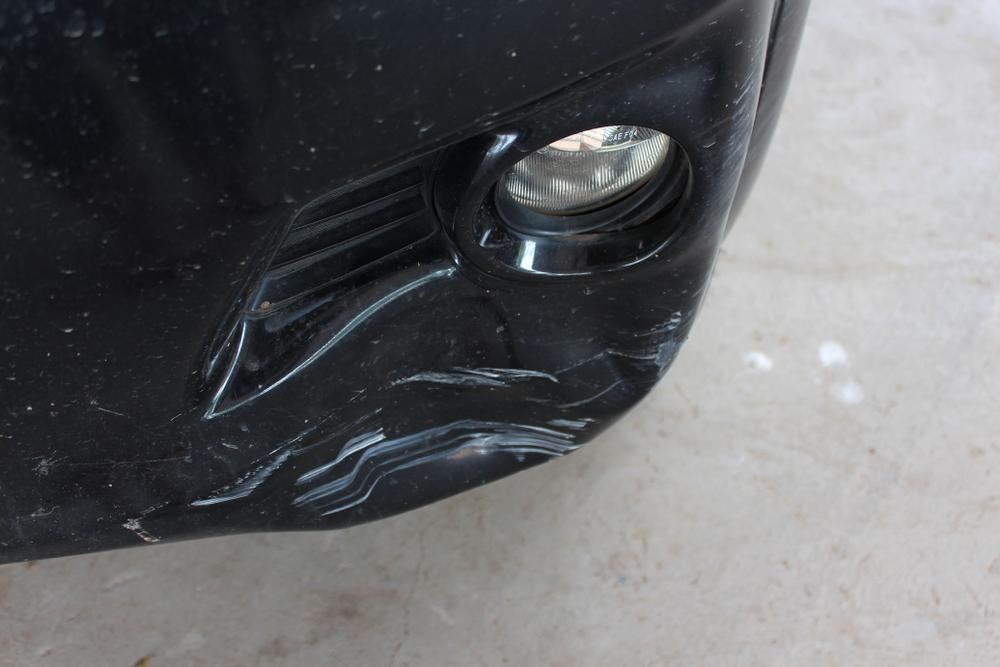dent: (287, 286, 641, 523)
scratch: (172, 434, 298, 515), (636, 280, 705, 391)
